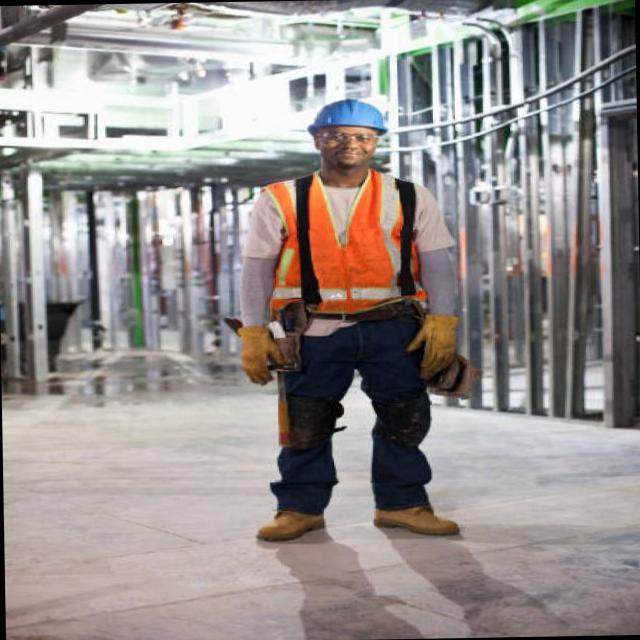Gloves: (400, 309, 461, 381), (226, 319, 286, 386)
